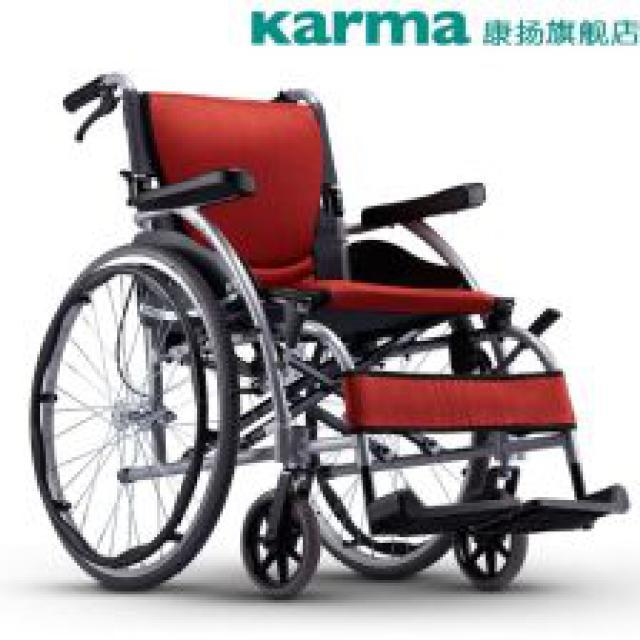wheelchair: (22, 68, 634, 603)
